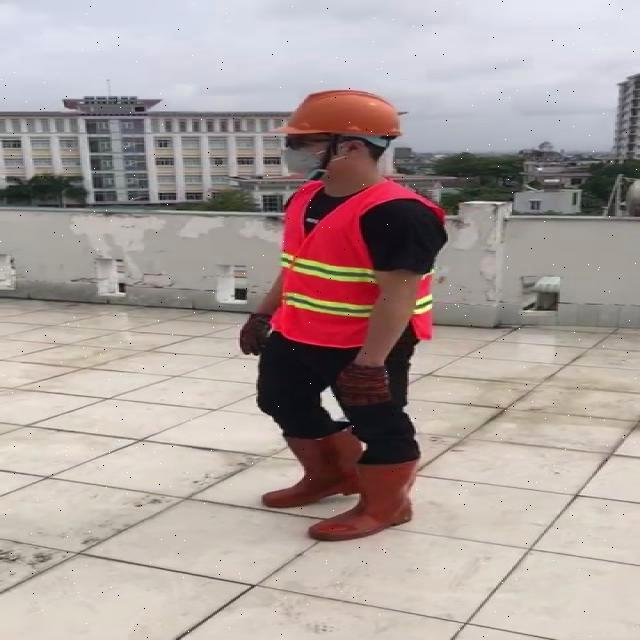Hard_hat: (273, 88, 415, 155)
Person: (228, 77, 458, 550)
Vest: (278, 180, 386, 348)
